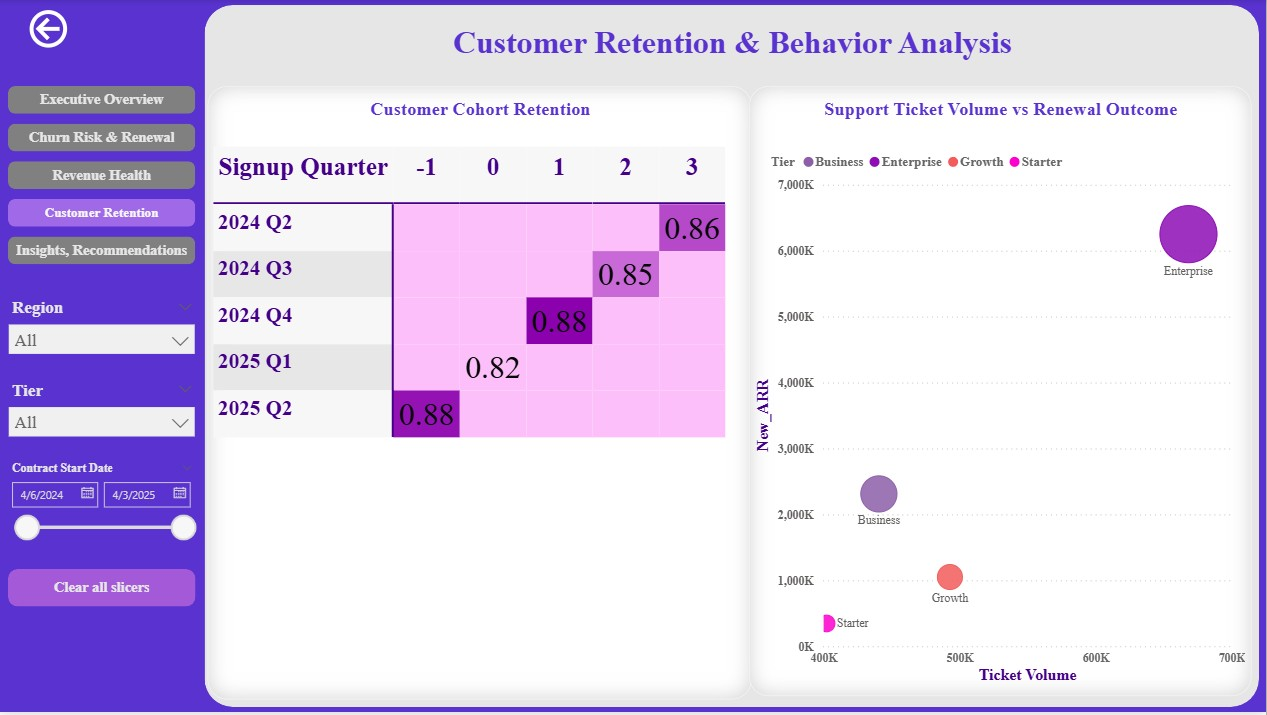

What the dashboard file says about the page in this screenshot:
{"tool":"powerbi","page":{"name":"Customer Retention","canvas":[1280,720],"ordinal":3},"visuals":[{"type":"shape","box":[207.4,6.1,1064.5,708.6],"z":0},{"type":"actionButton","box":[9.1,575.4,189.3,37.9],"z":1000},{"type":"pageNavigator","box":[9.1,87.8,189.3,183.2],"z":2000},{"type":"textbox","box":[216.5,19.7,1047.8,96.9],"z":3000},{"type":"actionButton","box":[25.7,6.4,115.6,48.2],"z":4000},{"type":"slicer","fields":{"Values":["accounts.region"]},"box":[0,296.8,207.4,81.8],"z":7000},{"type":"slicer","fields":{"Values":["accounts.tier"]},"box":[0,380.1,207.4,80.3],"z":8000},{"type":"slicer","fields":{"Values":["accounts.contract_start"]},"box":[0,461.8,207.4,113.6],"z":9000},{"type":"pivotTable","title":"Customer Cohort Retention","fields":{"Rows":["accounts.Signup Quarter"],"Columns":["renewals.Quarters Elapsed"],"Values":["Measure Table.Renewal Rate"]},"box":[210.5,87.8,549.7,619.3],"z":10000},{"type":"scatterChart","title":"Support Ticket Volume vs Renewal Outcome","fields":{"X":["Measure Table.Ticket Volume"],"Y":["Sum(renewals.new_arr)"],"Series":["accounts.tier"],"Size":["Sum(renewals.previous_arr)"]},"box":[757.1,87.8,507.3,616.3],"z":11000}]}

Visuals, with their boxes in screenshot pixels (x1, y1, x2, y2), scaled from the page's 1280x720 canvas onto the 1267x715 screenshot:
shape: [left=205, top=6, right=1259, bottom=710]
actionButton: [left=9, top=571, right=196, bottom=609]
pageNavigator: [left=9, top=87, right=196, bottom=269]
textbox: [left=214, top=20, right=1251, bottom=116]
actionButton: [left=25, top=6, right=140, bottom=54]
slicer - accounts.region: [left=0, top=295, right=205, bottom=376]
slicer - accounts.tier: [left=0, top=377, right=205, bottom=457]
slicer - accounts.contract_start: [left=0, top=459, right=205, bottom=571]
"Customer Cohort Retention" pivotTable: [left=208, top=87, right=752, bottom=702]
"Support Ticket Volume vs Renewal Outcome" scatterChart: [left=749, top=87, right=1252, bottom=699]
